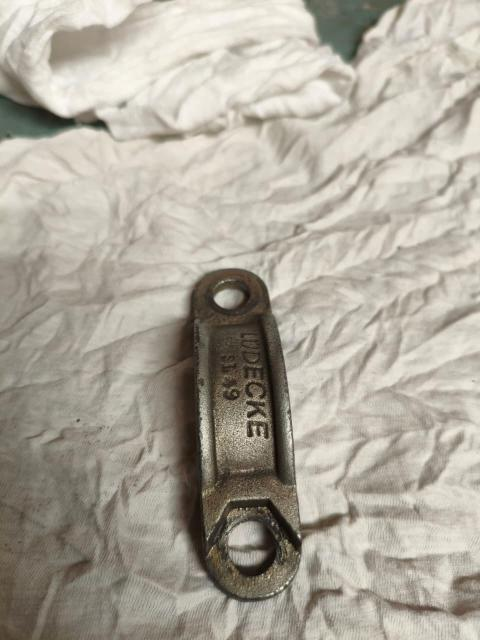Metal: (190, 268, 303, 597)
